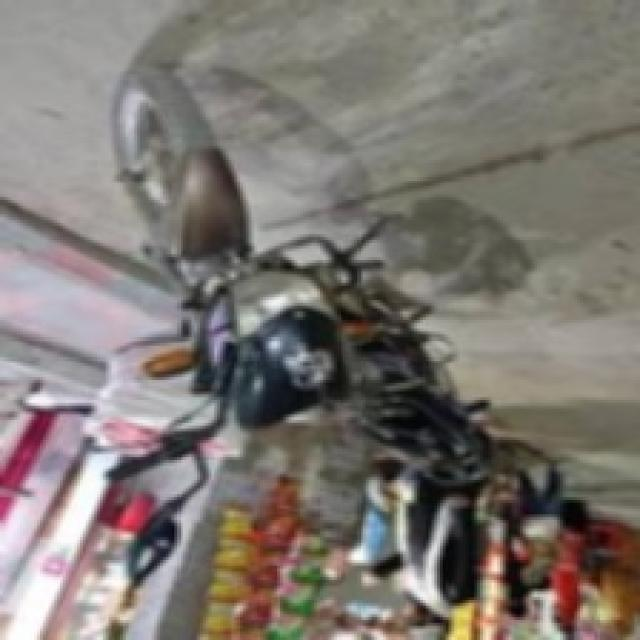bike: (111, 86, 503, 477)
